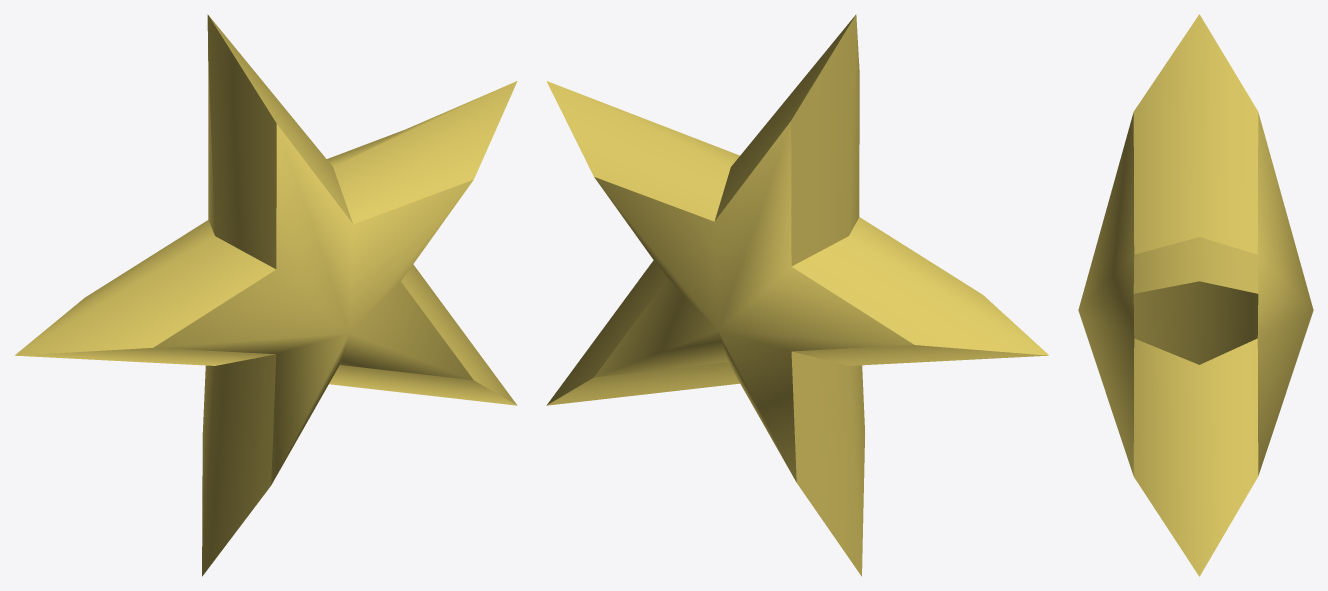
Rendered from AssetBalaEstrella.fbx.
3 views of the same model, side by side, from view 1: azimuth 30°, elevation 25°; view 2: azimuth 150°, elevation 25°; view 3: azimuth 270°, elevation 25° (orthographic). The views are drawn at different scales.
Parts seen in each view (by area): view 1: pasted__BastonEstrella; view 2: pasted__BastonEstrella; view 3: pasted__BastonEstrella.
Part boxes in pixels (left/top/right/bottom): pasted__BastonEstrella: left=15, top=14, right=517, bottom=576; pasted__BastonEstrella: left=546, top=14, right=1048, bottom=576; pasted__BastonEstrella: left=1078, top=14, right=1313, bottom=576.
Bounding box in the file's own units: 0.5438 × 0.5798 × 0.2419.
